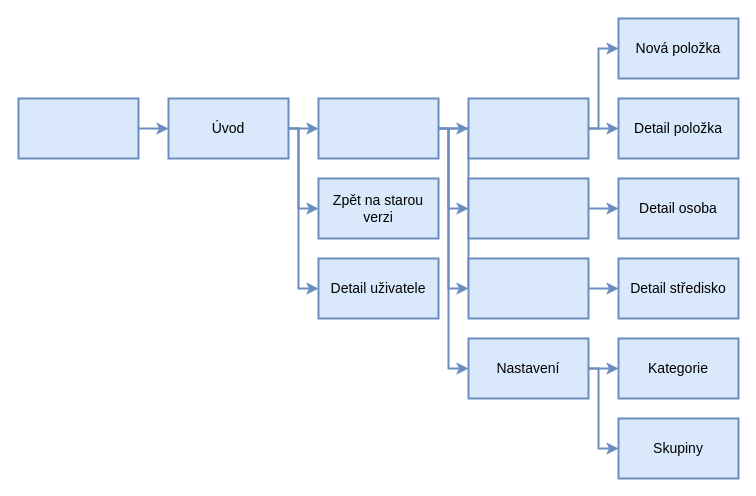
The diagram is 756 pixels wide and 496 high, and some of its shapes have lost their labels. Here are the shapes that lost their labels. From the top down, the box of each, then its label:
(17, 97, 139, 159): Přihlášení
(317, 97, 439, 159): Invetnář (ITAM)
(467, 97, 589, 159): Položky
(467, 177, 589, 239): Lidé
(467, 257, 589, 319): Střediska
